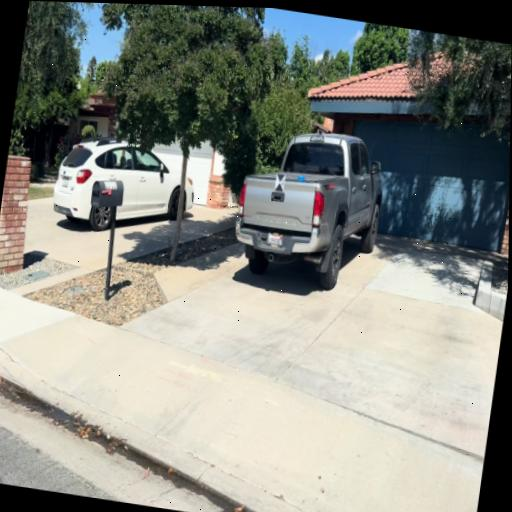target1: (274, 174, 286, 192)
